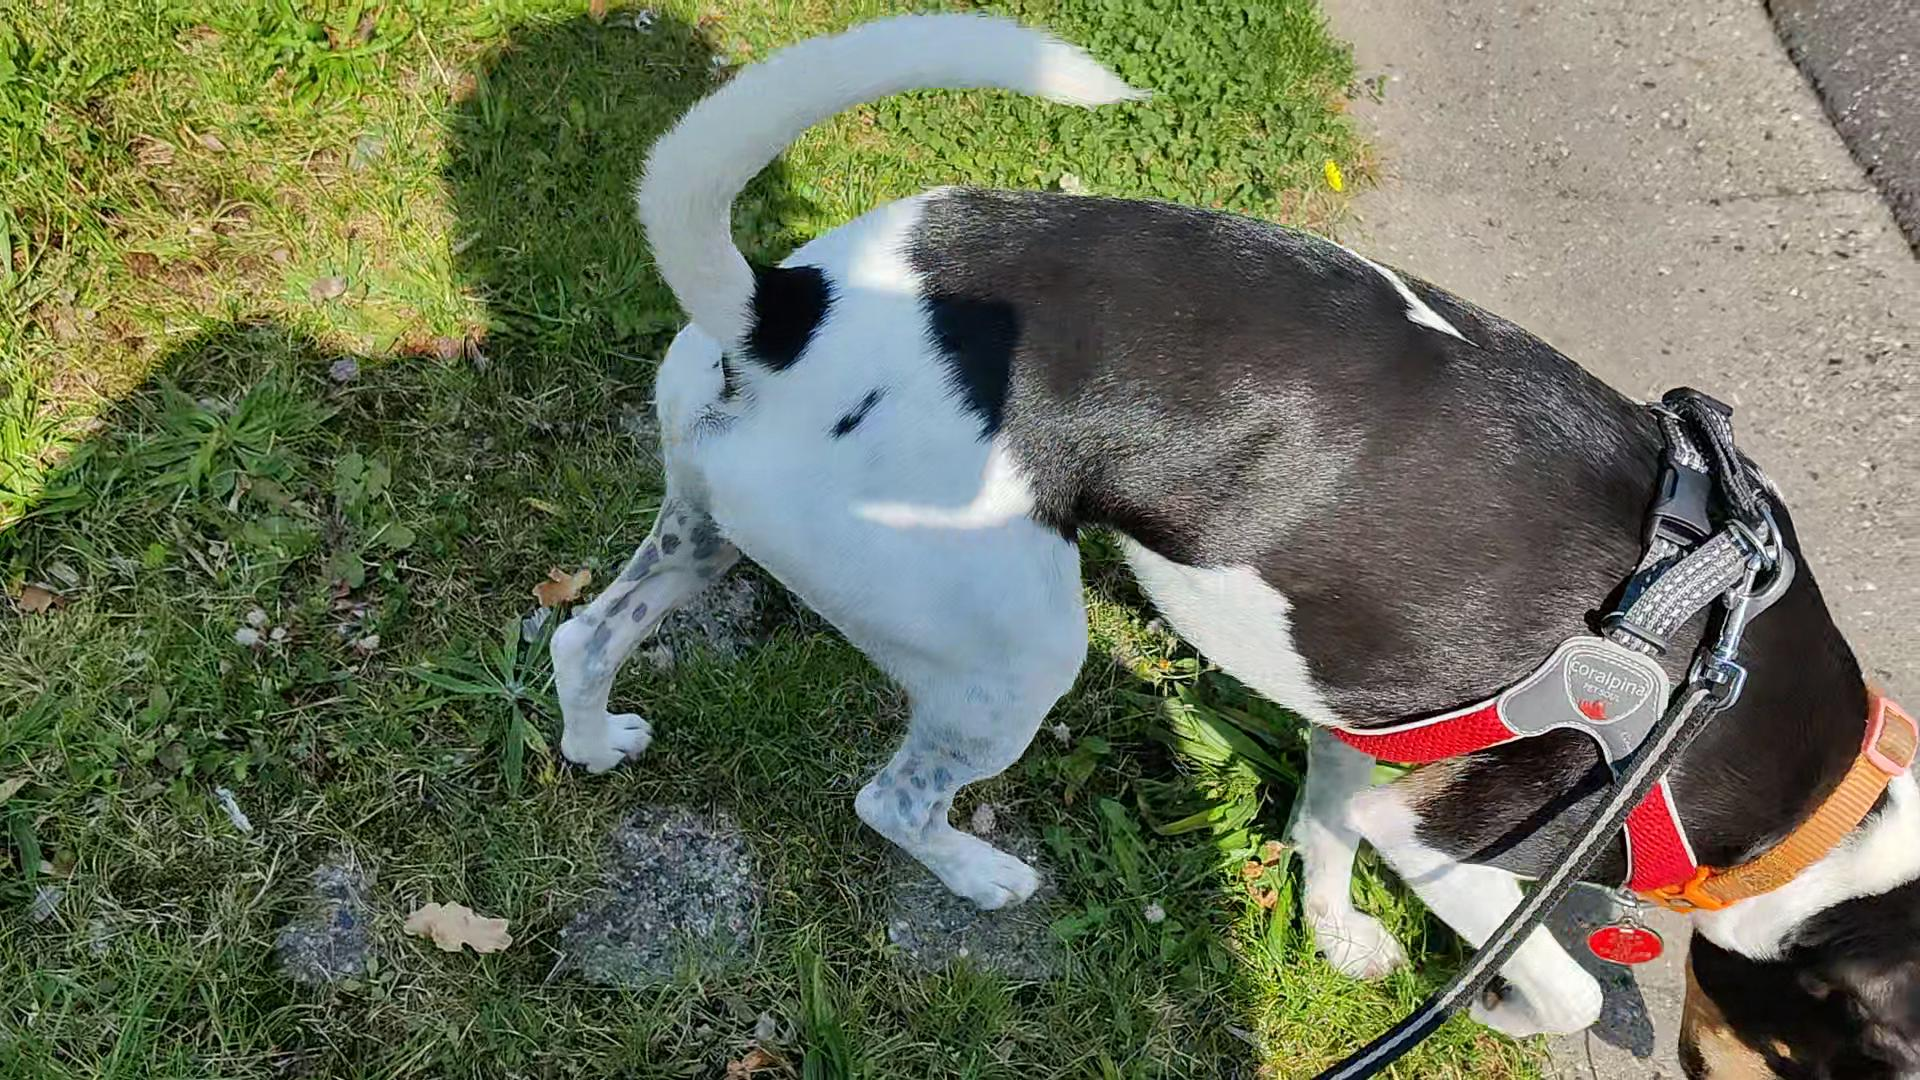Dog: (516, 8, 1919, 1079)
